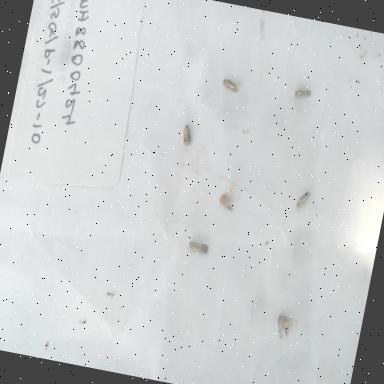pbw: (177, 230, 215, 268), (216, 70, 248, 102), (270, 310, 300, 344), (173, 116, 200, 153), (288, 81, 318, 109), (292, 182, 316, 216), (216, 184, 242, 214)
